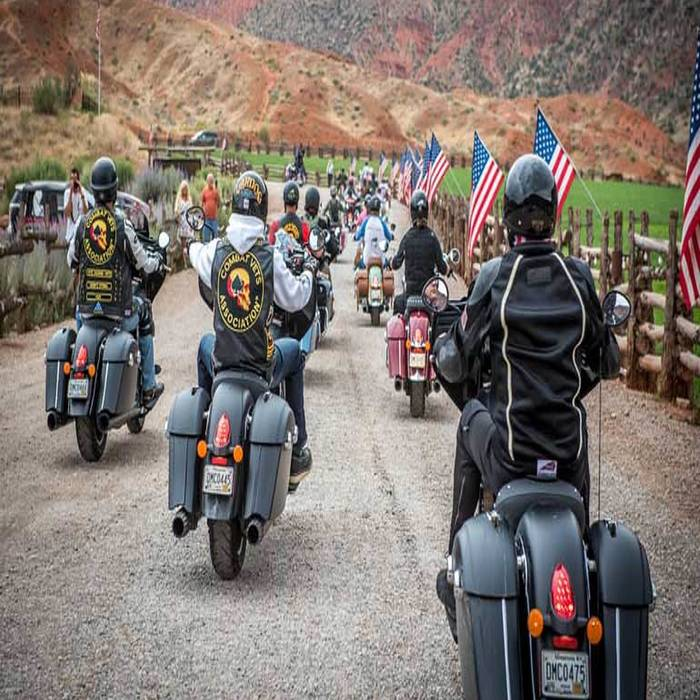h: (501, 152, 559, 239), (230, 167, 270, 221), (87, 154, 120, 205), (409, 187, 430, 228), (281, 179, 301, 214), (304, 185, 321, 215)
n: (538, 648, 595, 698), (202, 464, 236, 497), (67, 377, 91, 399), (408, 349, 427, 367)
